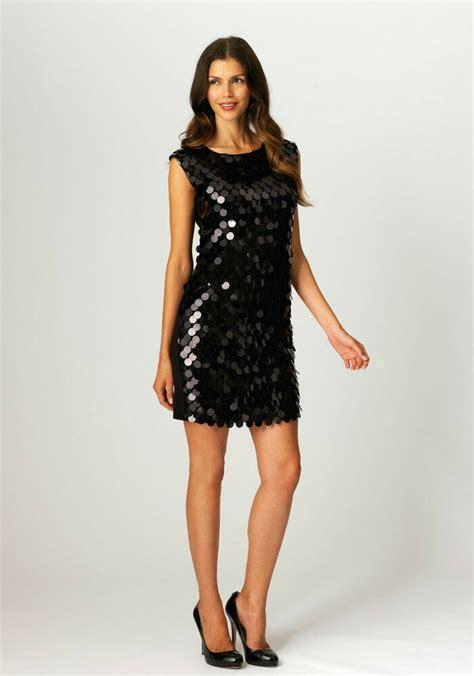dress: (170, 138, 302, 424)
